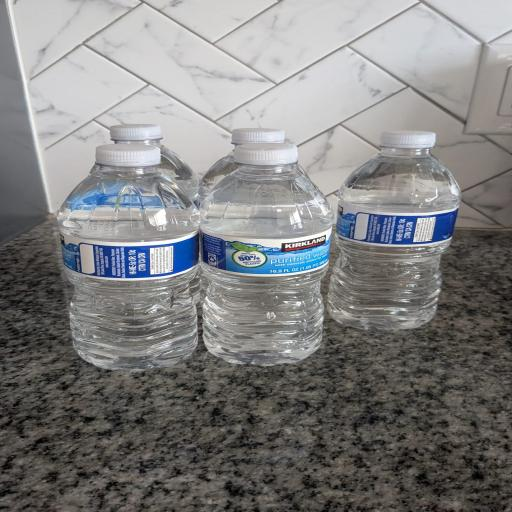waterbottle: (58, 144, 199, 370), (201, 144, 332, 365), (328, 132, 460, 331), (110, 124, 199, 206), (232, 128, 284, 146)
